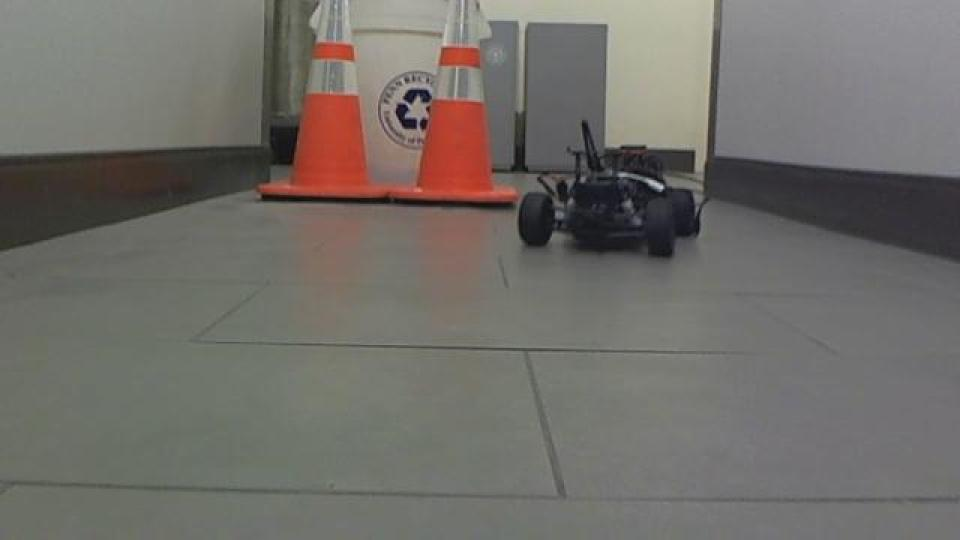car: (513, 117, 708, 259)
